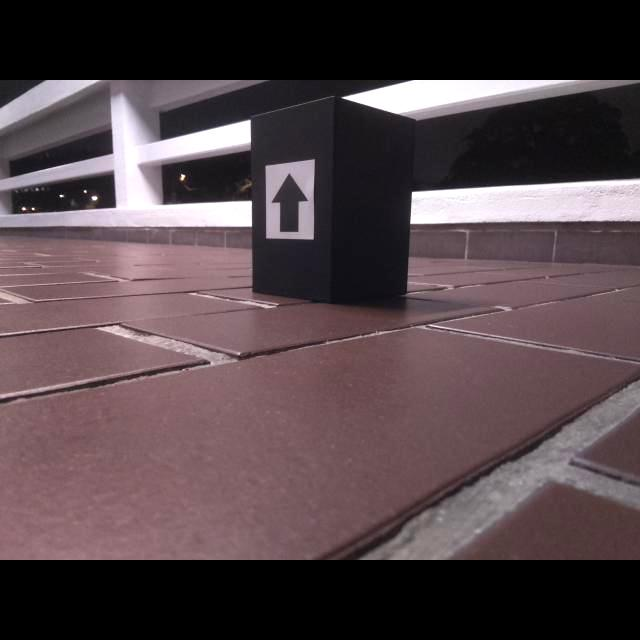UP: (270, 172, 310, 233)
